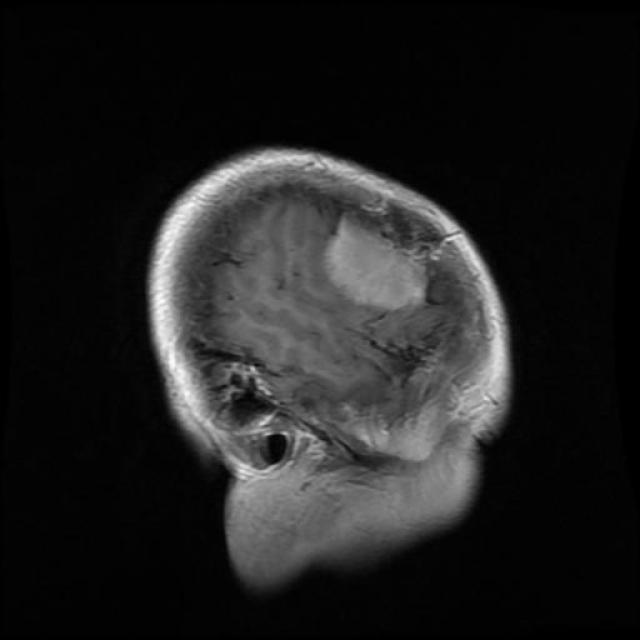meningioma: (321, 211, 429, 311)
